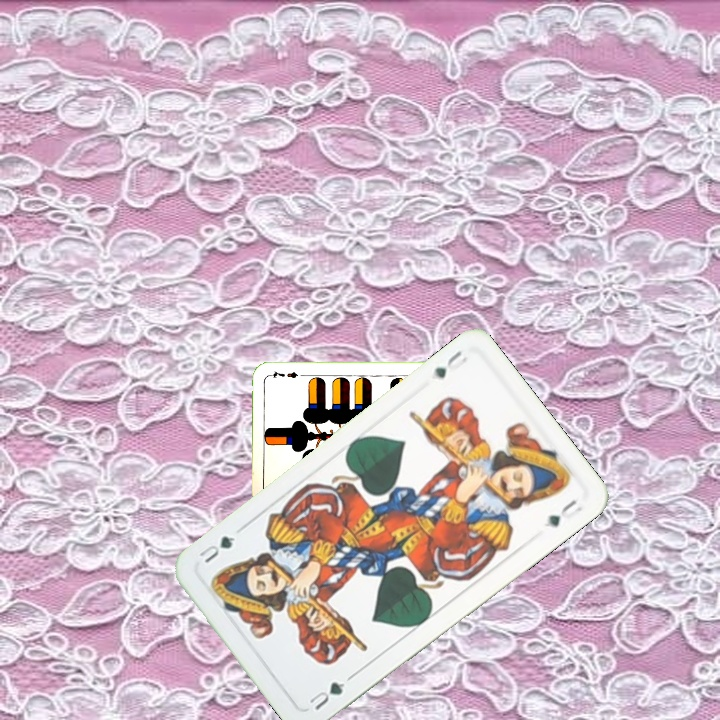GU: (305, 677, 348, 713), (428, 346, 470, 381)
